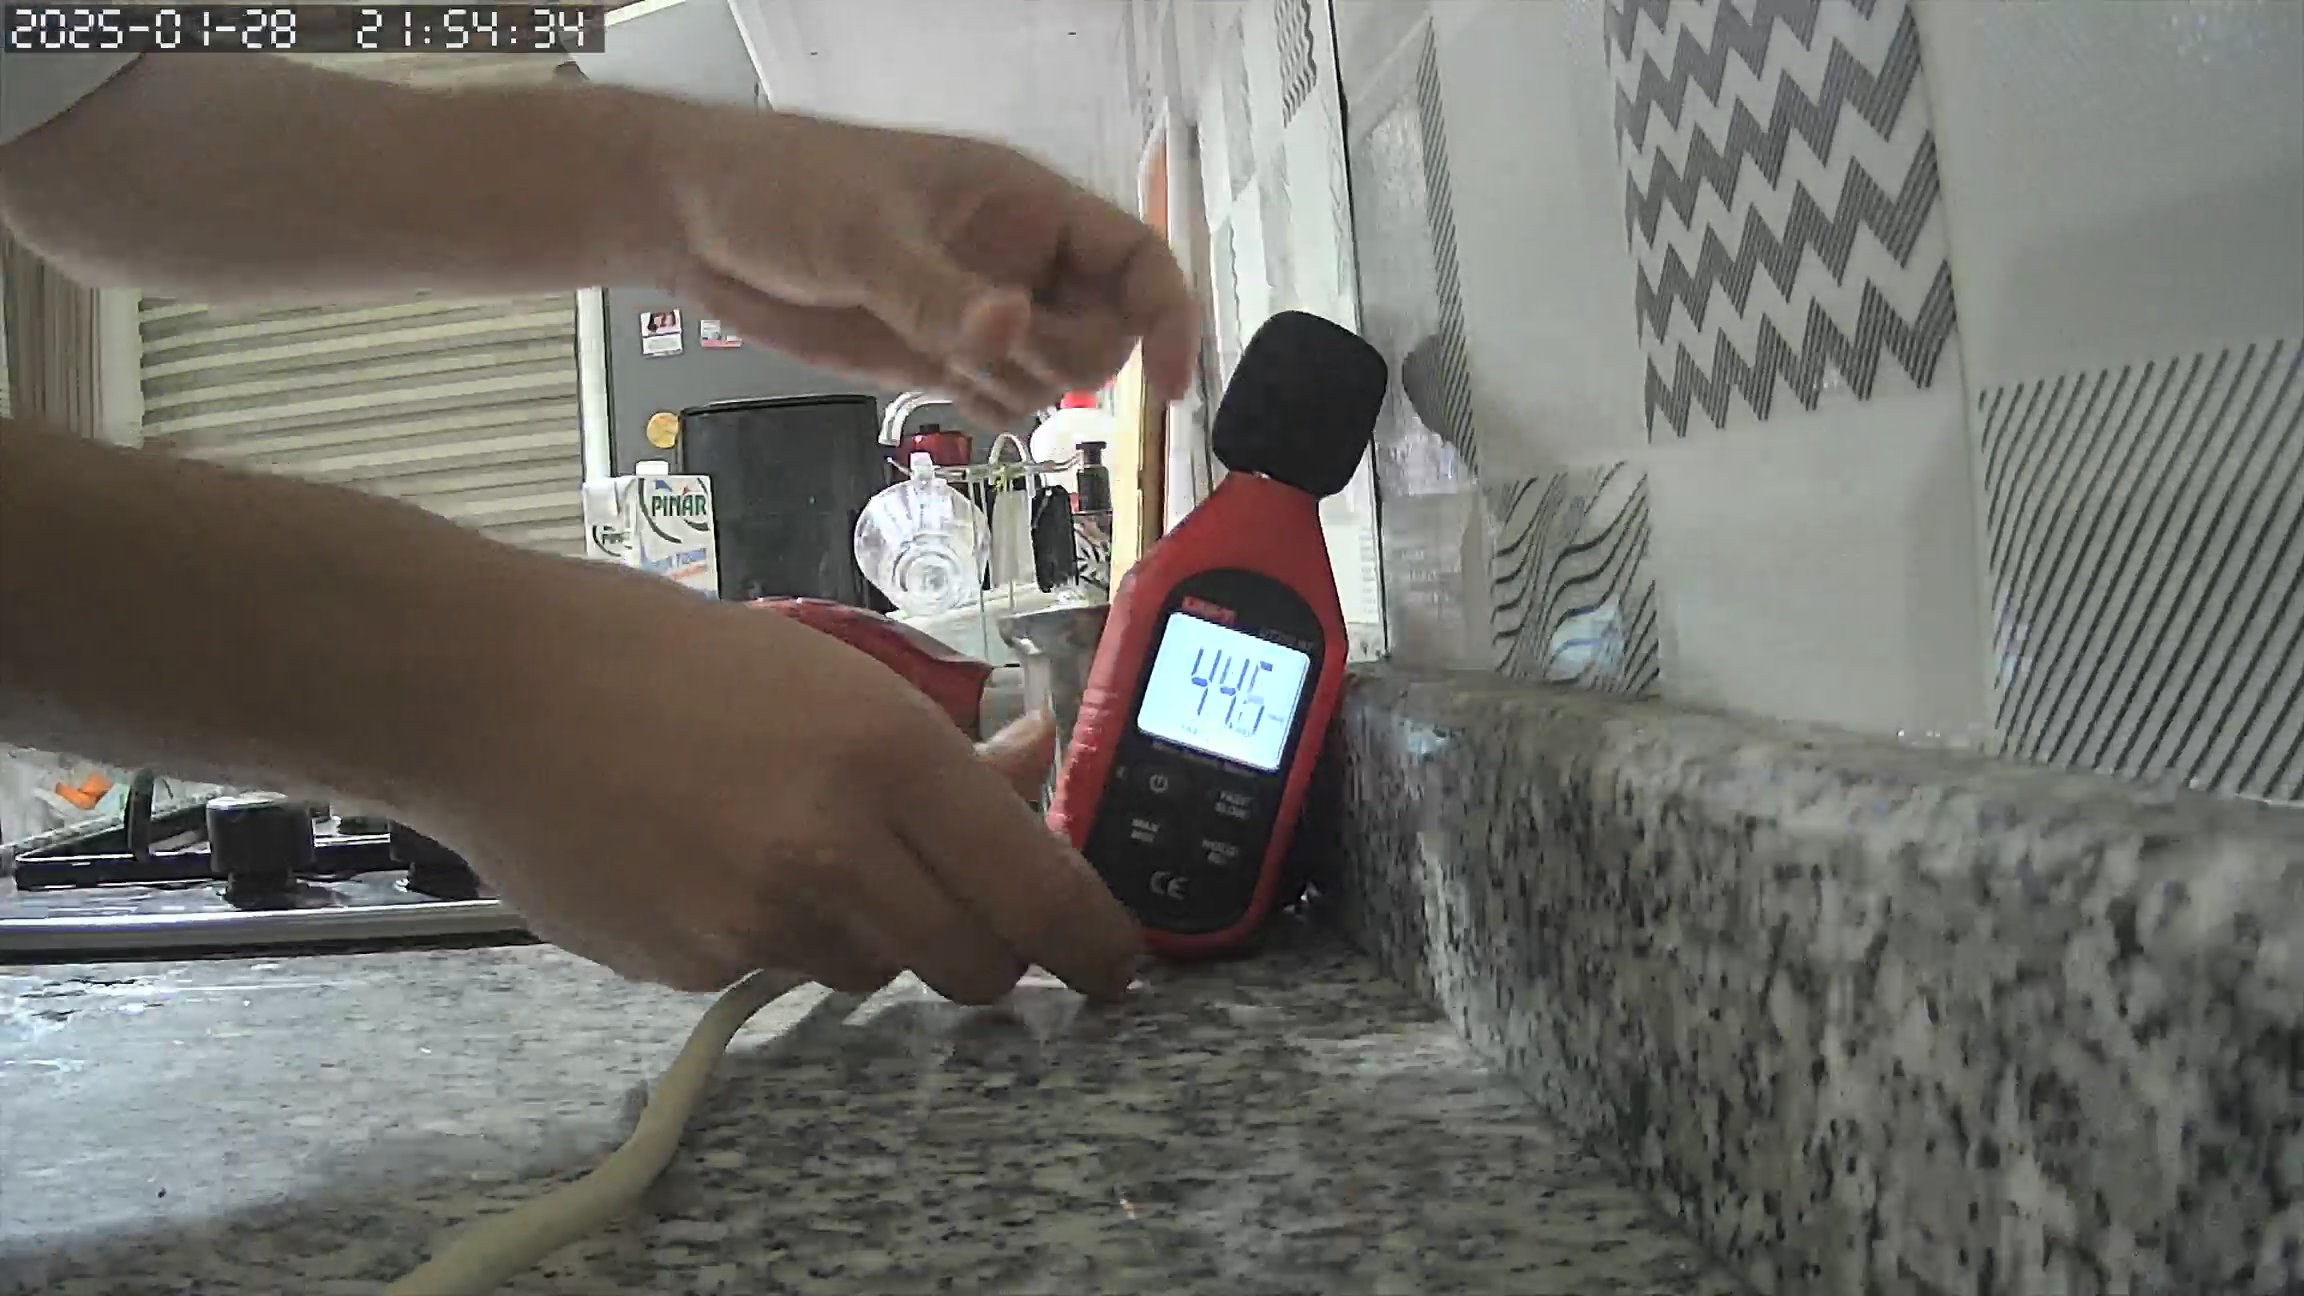screen: (1136, 612, 1309, 769)
